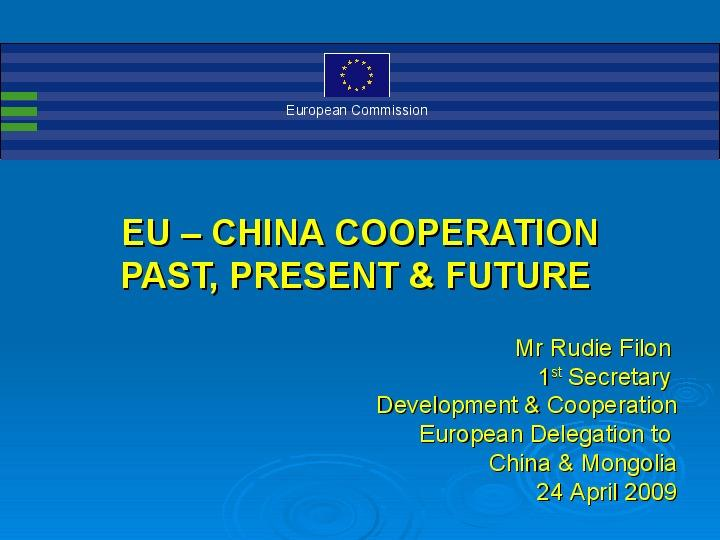subtitle: (375, 323, 692, 518), (106, 201, 617, 306)
title: (264, 95, 470, 131)
